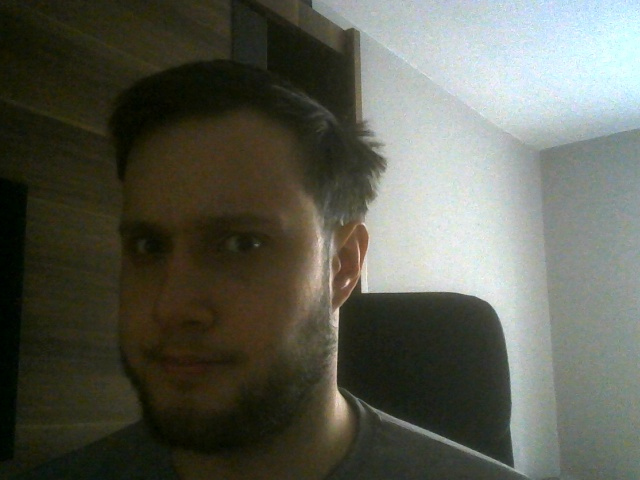angry: (117, 70, 366, 448)
